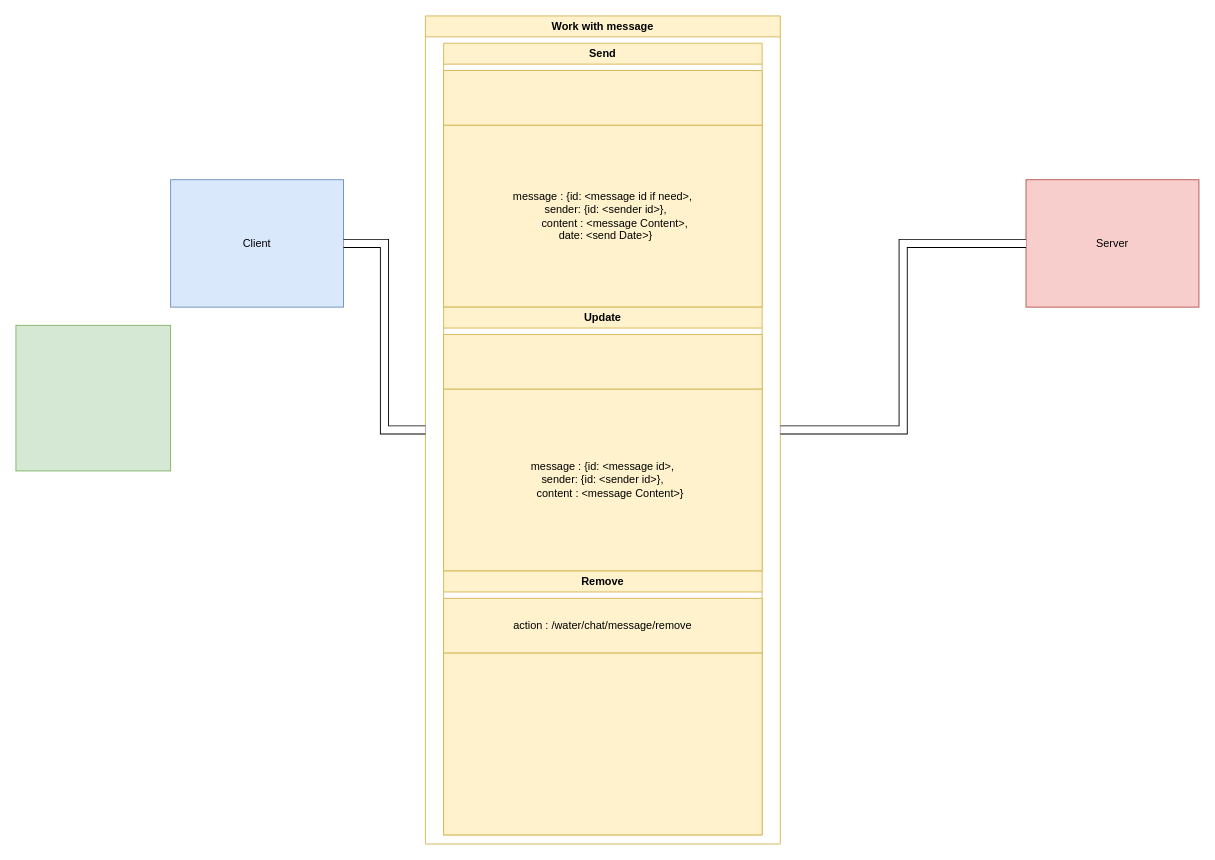
This 1215x860 diagram has some shape labels left out. Here are the shapes that lost their labels. From the top down, the centre of each, then its label:
point 602,97: action : /water/chat/message/send
point 602,361: action : /water/chat/message/update
point 93,397: Request Body actio : actionType Body : bodyType
point 602,743: message : {id: <message id>, sender: { id: <sender id> } }
